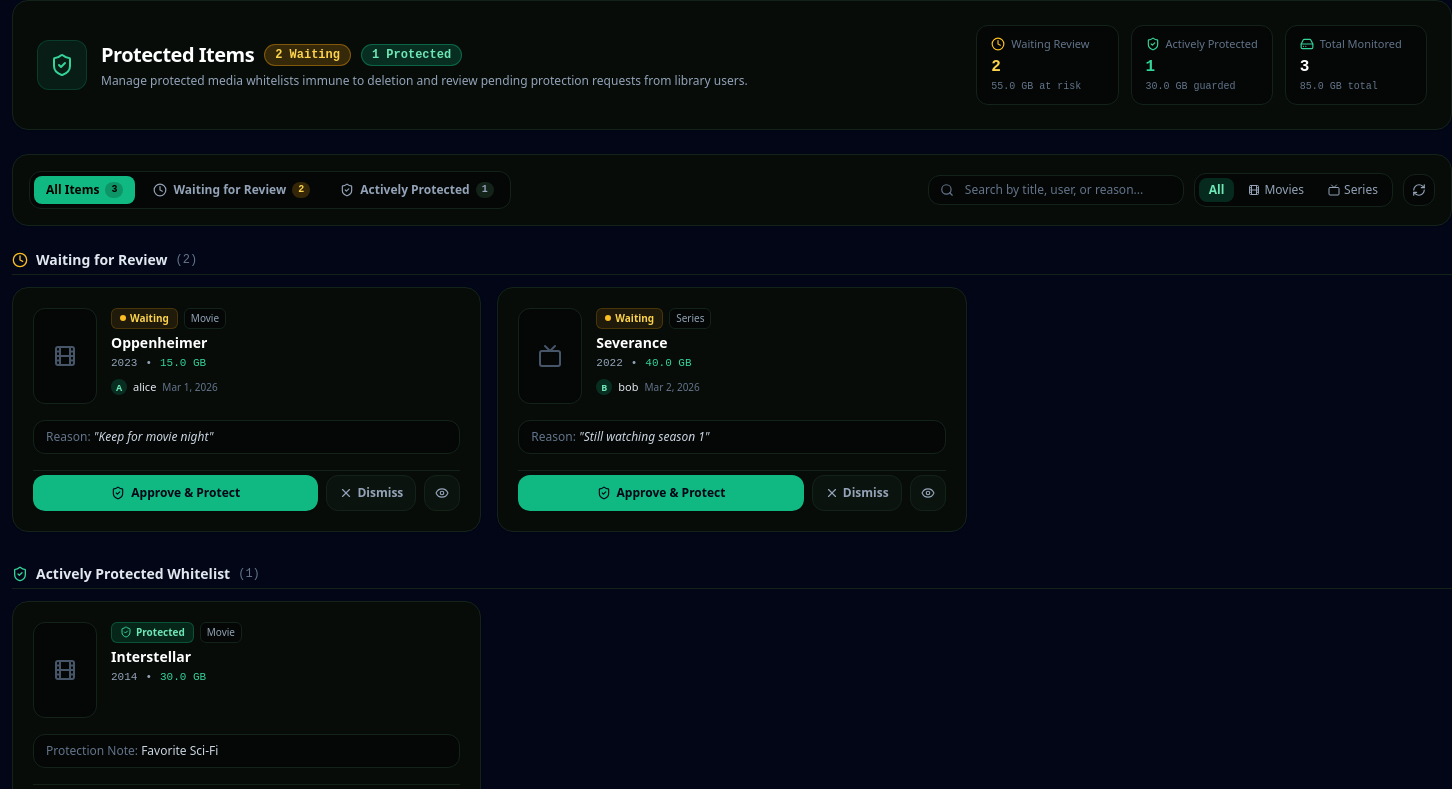
ProtectedItemsPage component › switches between status tabs: All, Waiting, and Protected
The width and height of the screenshot is (1452, 789).
# Click 'Waiting for Review' tab
Click the button "Waiting for Review 2" at (232, 190), box 142,176 -> 322,204
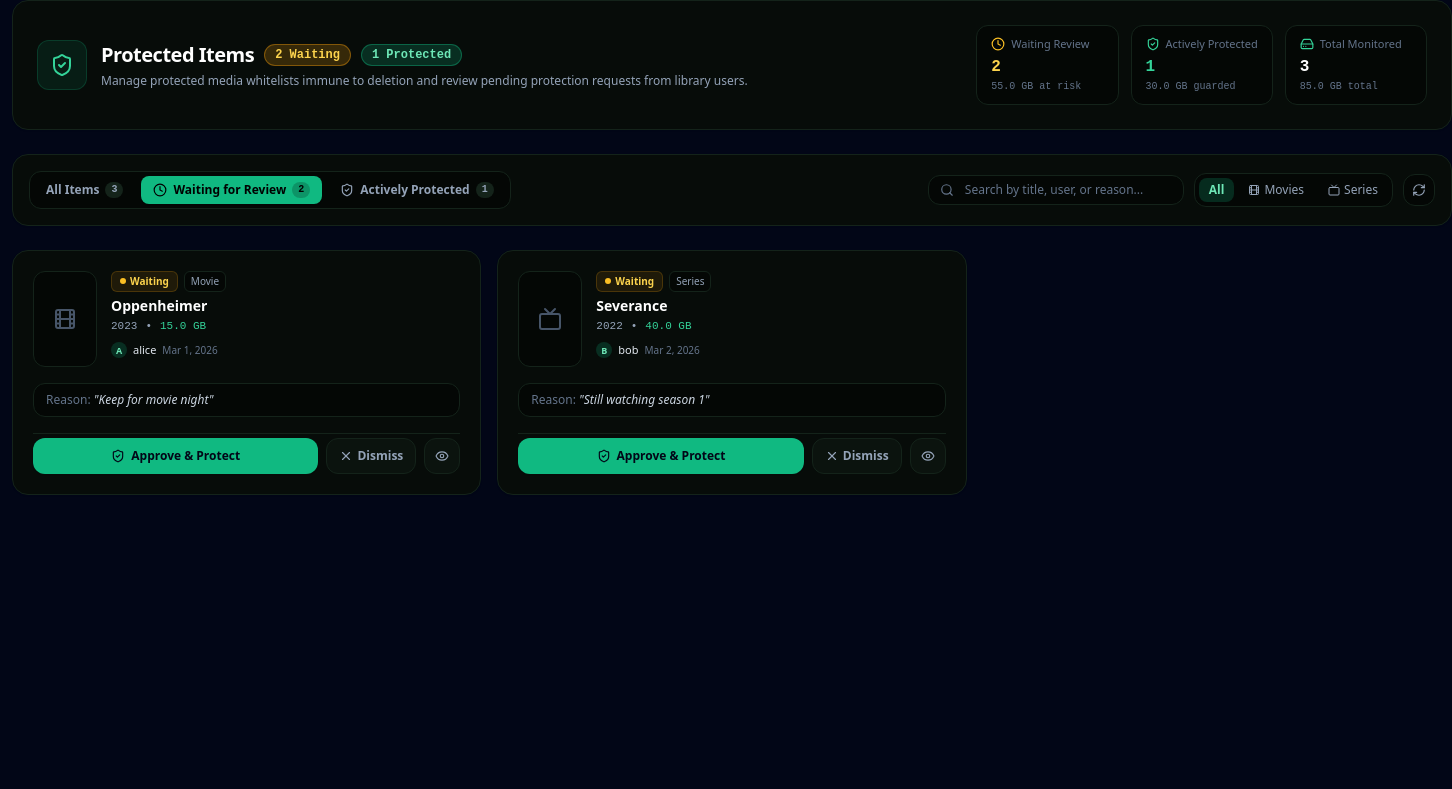
Expected: the heading "Oppenheimer" is shown, 111,296 -> 208,314
Expected: the heading "Interstellar" is gone
# Click 'Actively Protected' tab
Click the button "Actively Protected 1" at (417, 190), box 328,176 -> 506,204
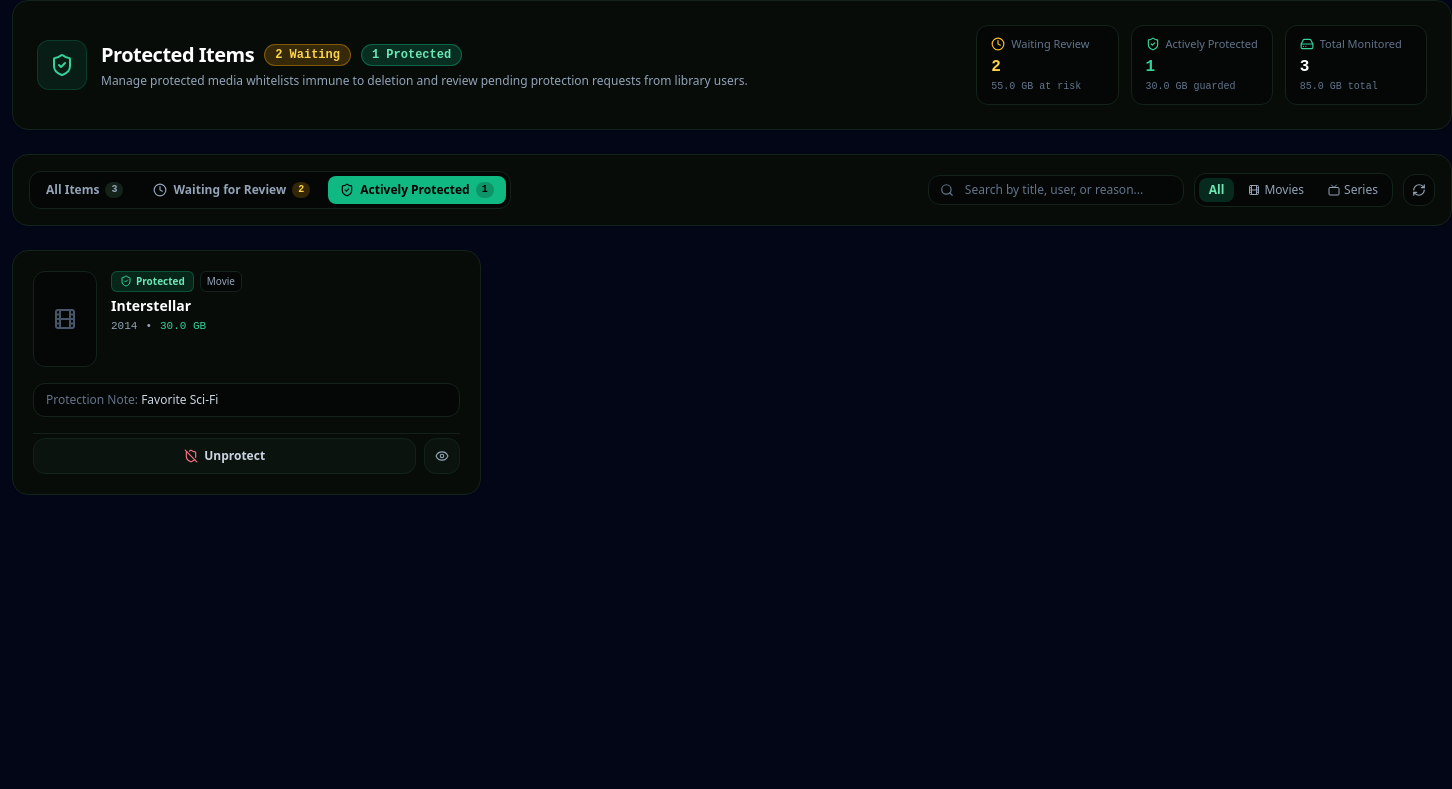
Expected: the heading "Interstellar" is shown, 111,296 -> 191,314
Expected: the heading "Oppenheimer" is gone
Expected: the heading "Severance" is gone
# Click 'All Items' tab
Click the button "All Items 3" at (85, 190), box 34,176 -> 136,204
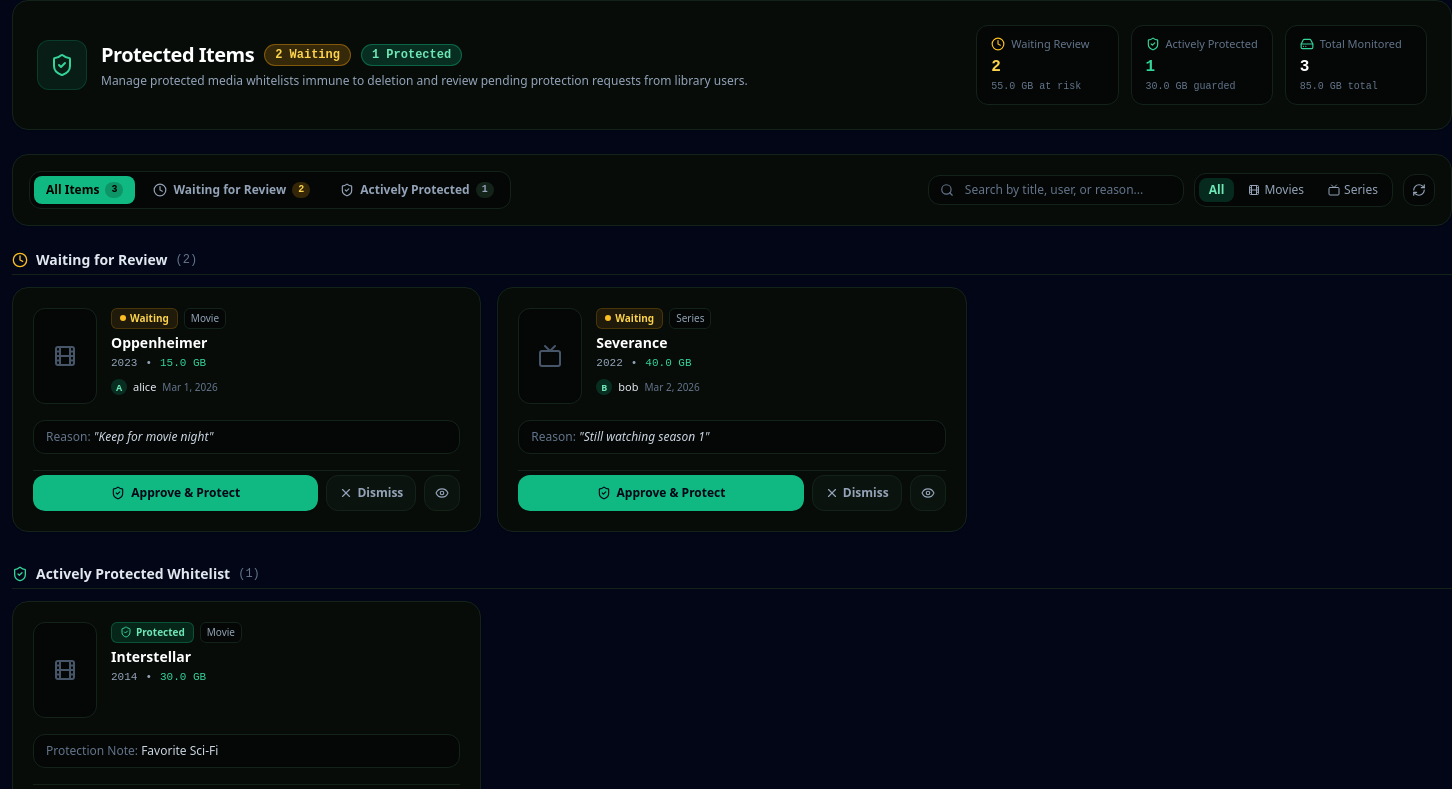
Expected: the heading "Interstellar" is shown, 111,646 -> 191,666
Expected: the heading "Oppenheimer" is shown, 111,332 -> 208,352
